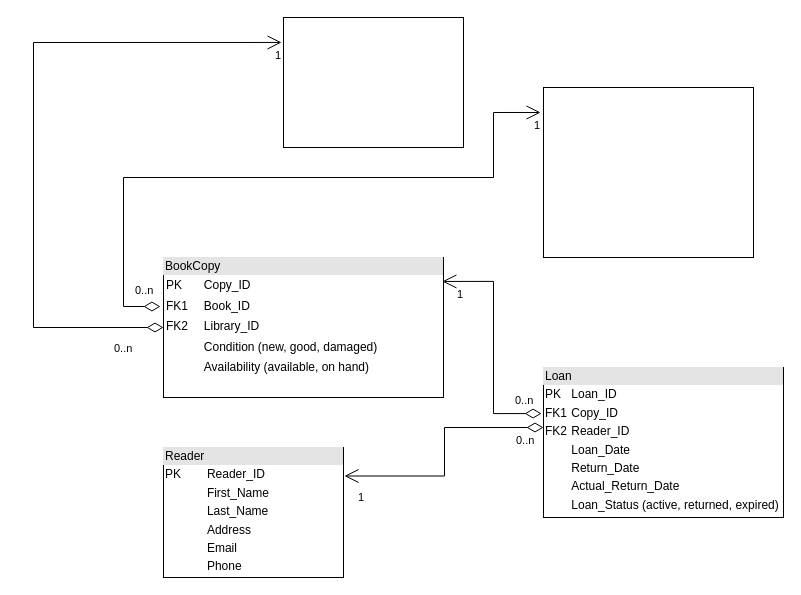
The diagram is 801 pixels wide and 595 high, and some of its shapes have lost their labels. Each missing label, with the centre of its shape:
Book PK Book_ID Title Author ISBN Year_Published Genre: the point at 648,172
Library PK Library_ID Name Address Phone: the point at 373,82
